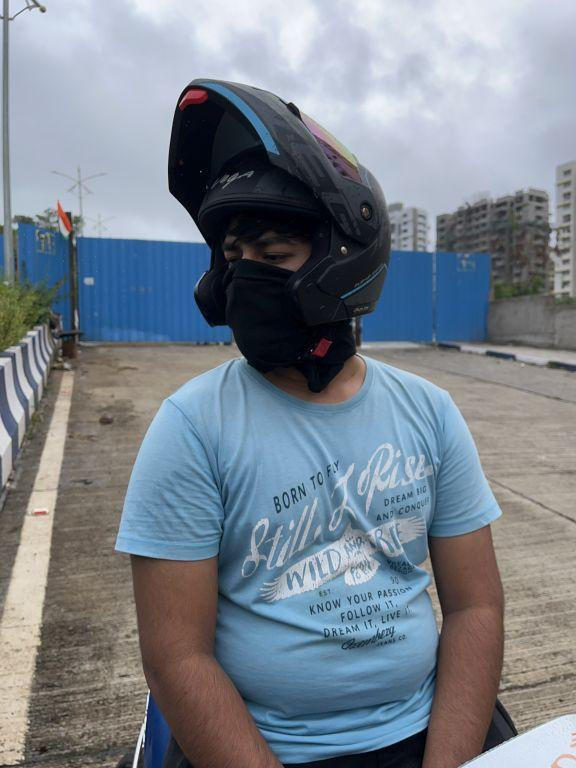helmet: (155, 69, 401, 410)
